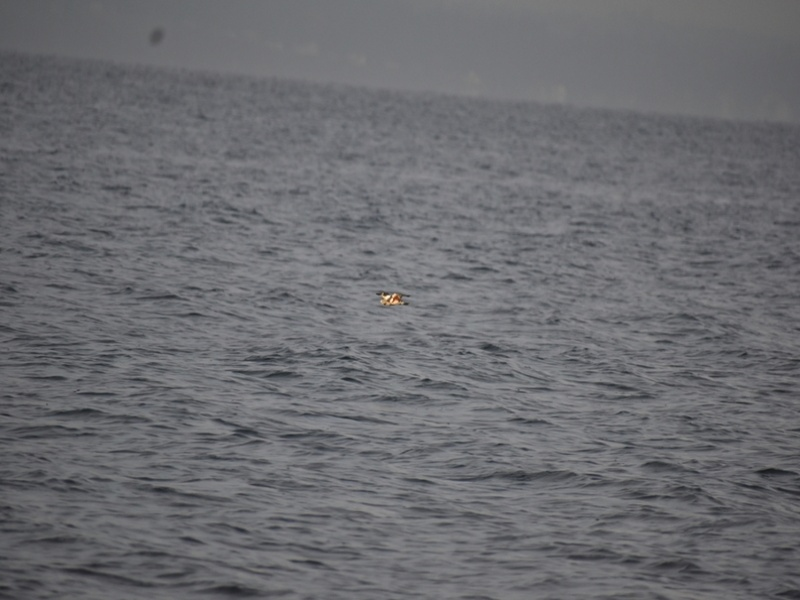kingfisher: (378, 289, 410, 309)
